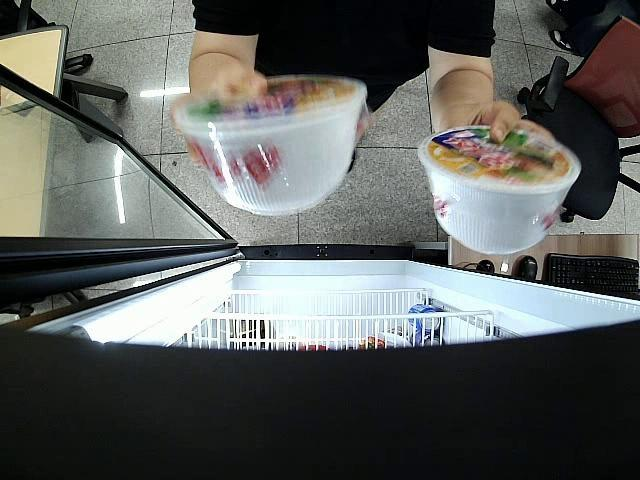09_yukGaeJang: (170, 74, 366, 216), (418, 125, 581, 253)
